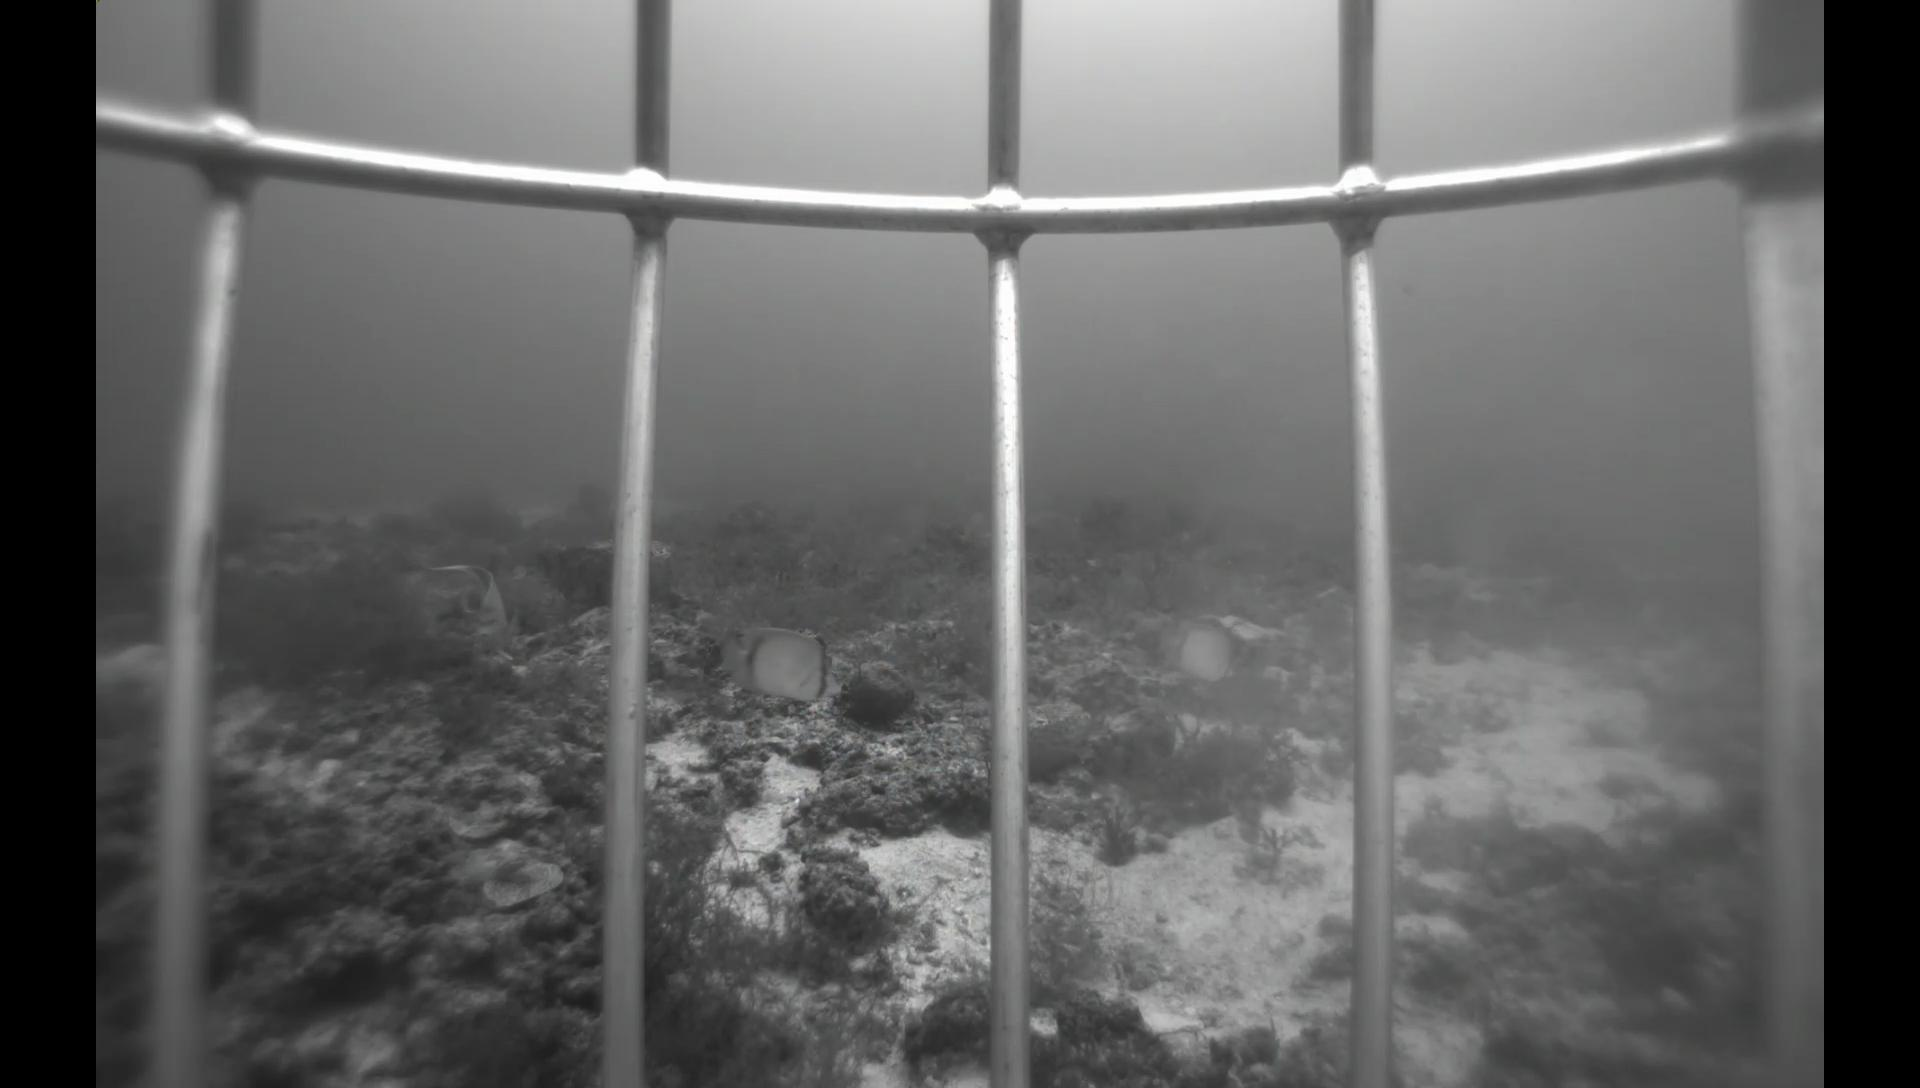CHAETODONOCELLATUS-170260307: (708, 624, 851, 707), (1145, 609, 1253, 698)
HOLACANTHUSBERMUDENSIS-170290102: (419, 546, 541, 673)
MYCTEROPERCAPHENAX-170022105: (943, 497, 992, 555)
